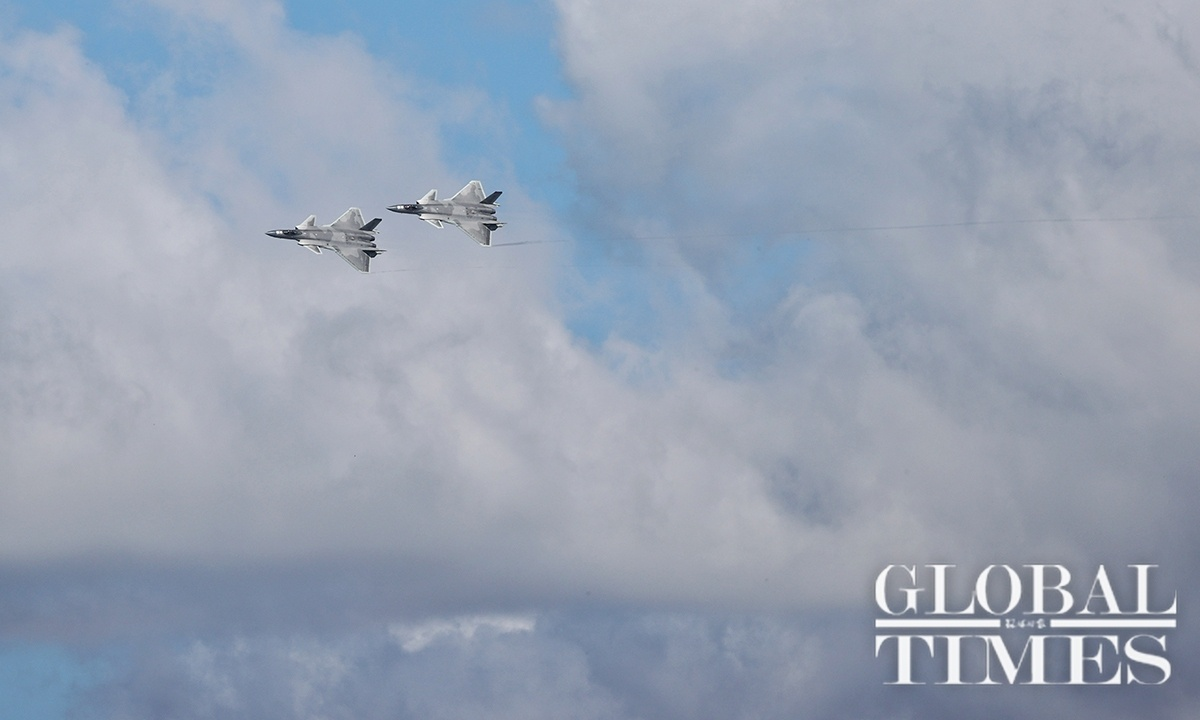J20: (264, 206, 388, 274), (385, 180, 508, 248)
